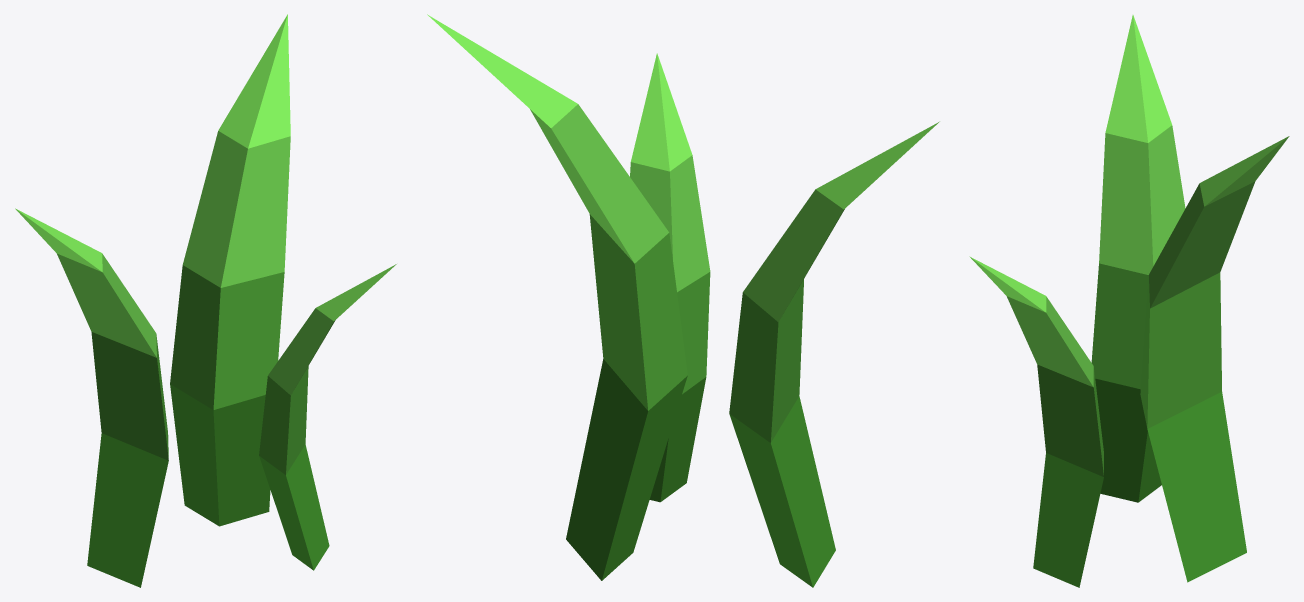
The model's file is Grass.fbx.
3 views of the same model, side by side, from view 1: azimuth 30°, elevation 25°; view 2: azimuth 150°, elevation 25°; view 3: azimuth 270°, elevation 25° (orthographic). The views are drawn at different scales.
Parts seen in each view (by area): view 1: Grass; view 2: Grass; view 3: Grass.
Boxes of the visible parts, bbox=[...] form: Grass: bbox=[15, 14, 396, 587]; Grass: bbox=[427, 14, 939, 587]; Grass: bbox=[969, 15, 1289, 587].
Bounding box in the file's own units: 12.19 × 15.04 × 9.08.
